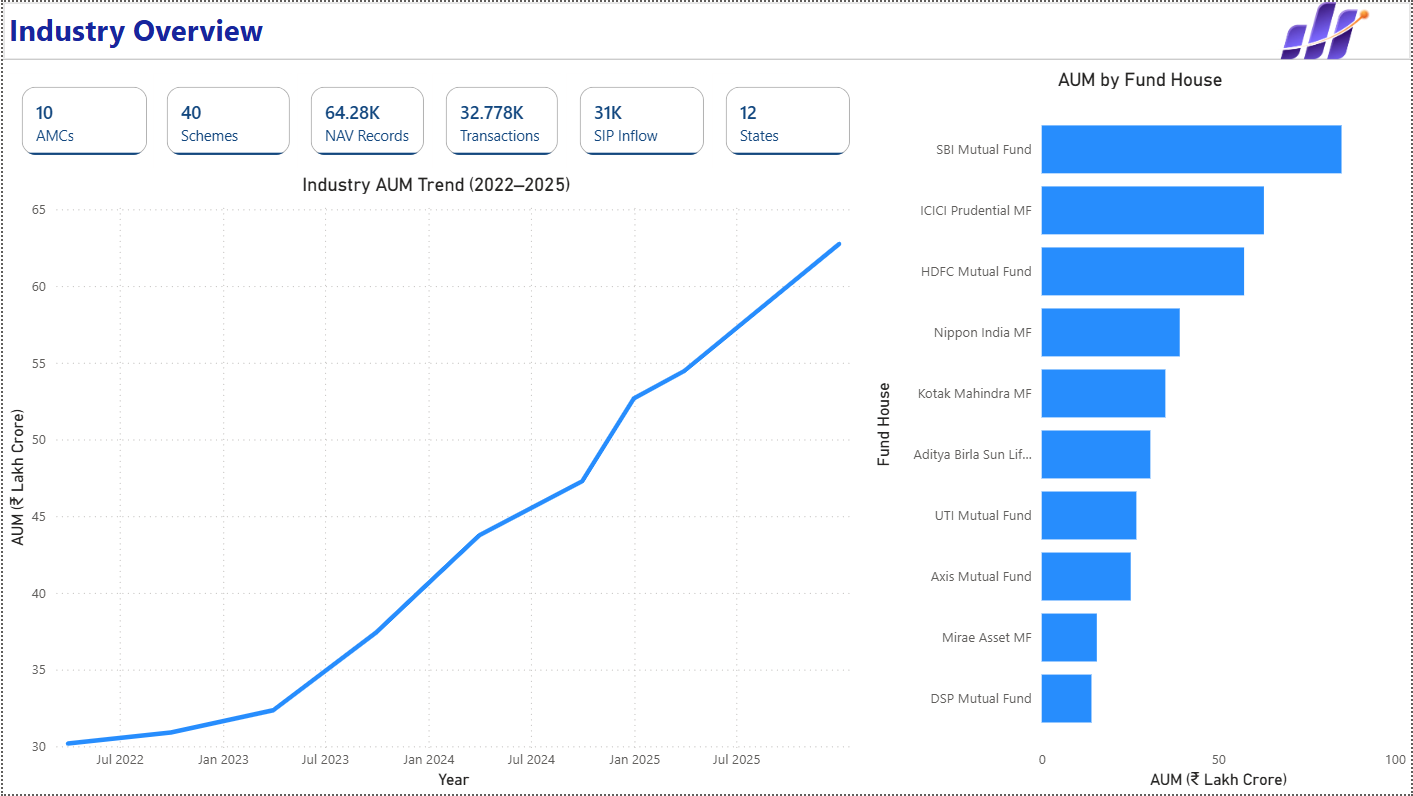

The page's visual inventory and layout, read from the dashboard file:
{"tool":"powerbi","page":{"name":"Market Overview","canvas":[1280,720],"ordinal":0},"visuals":[{"type":"textbox","box":[0,0,1280,52],"z":0},{"type":"cardVisual","title":"AMC","fields":{"Data":["Count(Fund Master.fund_house)"]},"box":[0,60,148,96],"z":1000},{"type":"cardVisual","fields":{"Data":["CountNonNull(Fund Master.scheme_name)"]},"box":[132,60,146,96],"z":2000},{"type":"cardVisual","fields":{"Data":["CountNonNull(Daily Returns.daily_return)"]},"box":[263,60,137,96],"z":3000},{"type":"cardVisual","fields":{"Data":["CountNonNull(Investor Transactions.investor_id)"]},"box":[385,60,136,96],"z":4000},{"type":"cardVisual","fields":{"Data":["Sum(Monthly Sip Inflows.sip_inflow_crore)"]},"box":[507,60,147,96],"z":5000},{"type":"cardVisual","fields":{"Data":["Count(Investor Transactions.state)"]},"box":[640,60,147,96],"z":6000},{"type":"lineChart","title":"Industry AUM Trend (2022–2025)","fields":{"Y":["Sum(Aum by Fund House.aum_lakh_crore)"],"Category":["Aum by Fund House.date"]},"box":[0,155.8,787.2,564.2],"z":7000},{"type":"clusteredBarChart","title":"AUM by Fund House","fields":{"Category":["Aum by Fund House.fund_house"],"Y":["Sum(Aum by Fund House.aum_lakh_crore)"]},"box":[787,60,493,660],"z":8000},{"type":"image","box":[1106,0,174,52],"z":8001}]}

Visuals, with their boxes in screenshot pixels (x1, y1, x2, y2), scaled from the page's 1280x720 canvas onto the 1413x796 screenshot:
textbox: select_region(0, 0, 1412, 57)
"AMC" cardVisual: select_region(0, 66, 163, 172)
cardVisual - CountNonNull(Fund Master.scheme_name): select_region(146, 66, 307, 172)
cardVisual - CountNonNull(Daily Returns.daily_return): select_region(290, 66, 442, 172)
cardVisual - CountNonNull(Investor Transactions.investor_id): select_region(425, 66, 575, 172)
cardVisual - Sum(Monthly Sip Inflows.sip_inflow_crore): select_region(560, 66, 722, 172)
cardVisual - Count(Investor Transactions.state): select_region(706, 66, 869, 172)
"Industry AUM Trend (2022–2025)" lineChart: select_region(0, 172, 869, 795)
"AUM by Fund House" clusteredBarChart: select_region(869, 66, 1412, 795)
image: select_region(1221, 0, 1412, 57)
